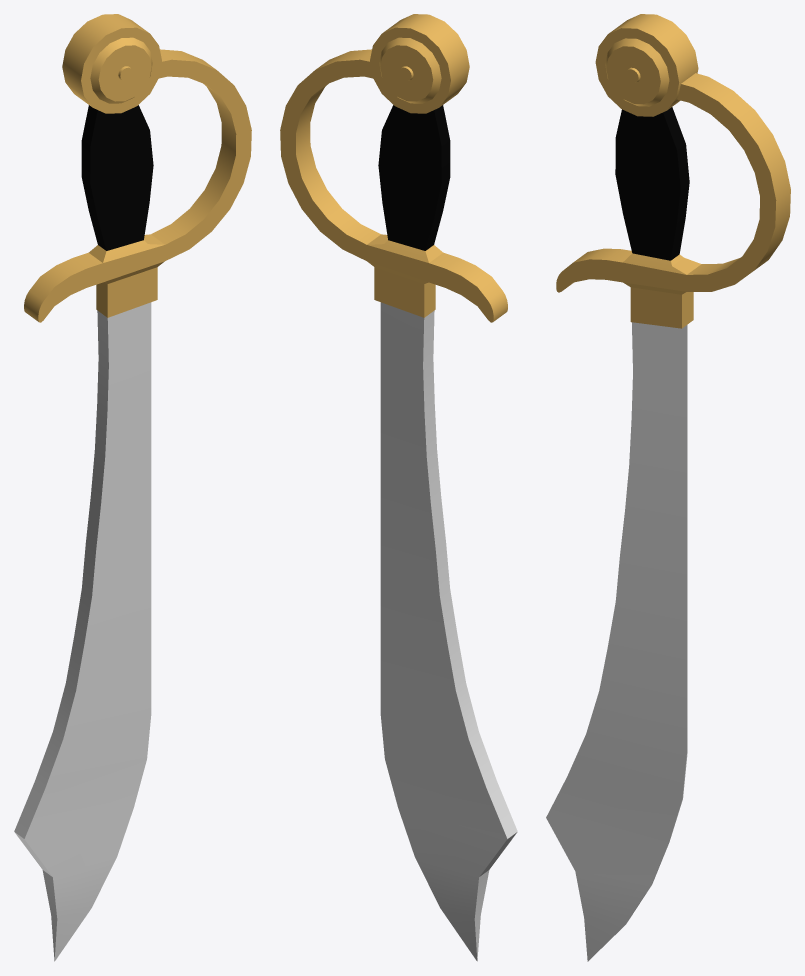
Rendered from Pirate Cutlass Club.glb.
The picture shows the model from 3 angles, left to right: view 1: azimuth 30°, elevation 25°; view 2: azimuth 150°, elevation 25°; view 3: azimuth 330°, elevation 25°; orthographic projection. The views are drawn at different scales.
Parts seen in each view (by area): view 1: Pirate Cutlass Club.001; view 2: Pirate Cutlass Club.001; view 3: Pirate Cutlass Club.001.
Part boxes in pixels (bbox=[...]): Pirate Cutlass Club.001: bbox=[14, 14, 251, 961]; Pirate Cutlass Club.001: bbox=[280, 14, 517, 961]; Pirate Cutlass Club.001: bbox=[546, 14, 790, 961].
Bounding box in the file's own units: 0.2443 × 0.9596 × 0.0546.
